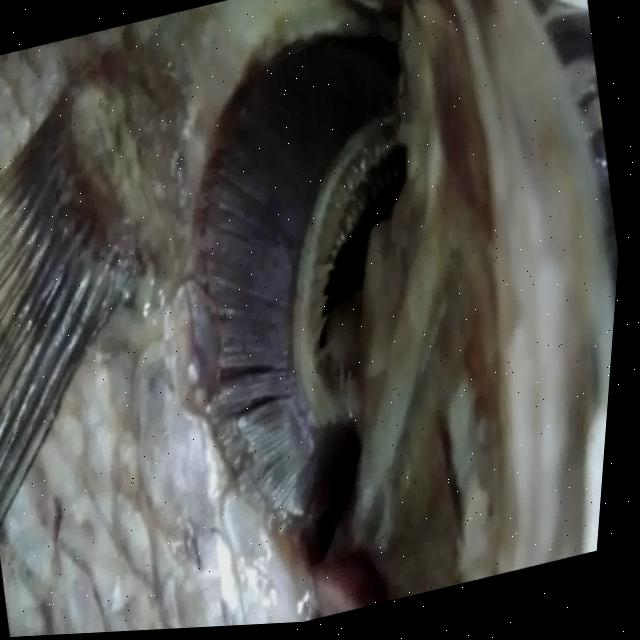Non-Fresh: (118, 0, 472, 587)
